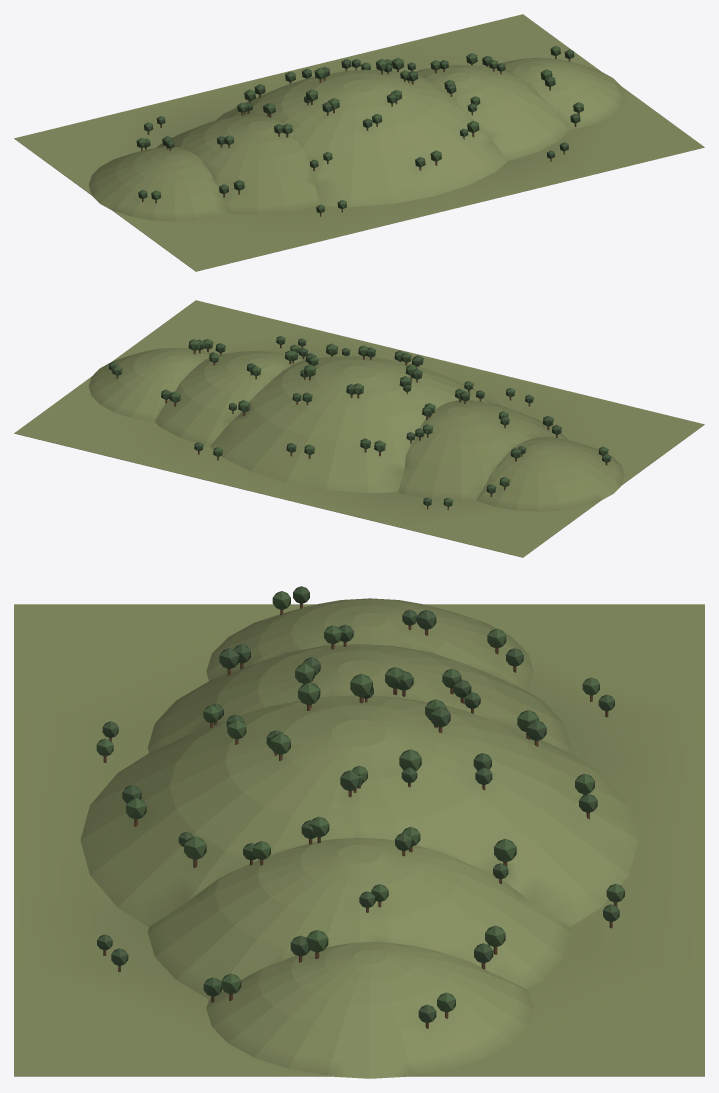
Rendered from jingshan-1450.glb.
3 views of the same model, one above another, from view 1: azimuth 30°, elevation 25°; view 2: azimuth 150°, elevation 25°; view 3: azimuth 270°, elevation 25° (orthographic). The views are drawn at different scales.
Parts seen in each view (by area): view 1: p0_hill, p2_trees; view 2: p0_hill, p2_trees; view 3: p0_hill, p2_trees.
Boxes of the visible parts, left/top/right/bottom form: p0_hill: left=14, top=14, right=704, bottom=271; p2_trees: left=136, top=46, right=583, bottom=216; p0_hill: left=14, top=300, right=704, bottom=557; p2_trees: left=109, top=336, right=611, bottom=510; p0_hill: left=14, top=598, right=704, bottom=1078; p2_trees: left=96, top=586, right=624, bottom=1028.
Size of the model in its own units: 424 by 51.87 by 260.
